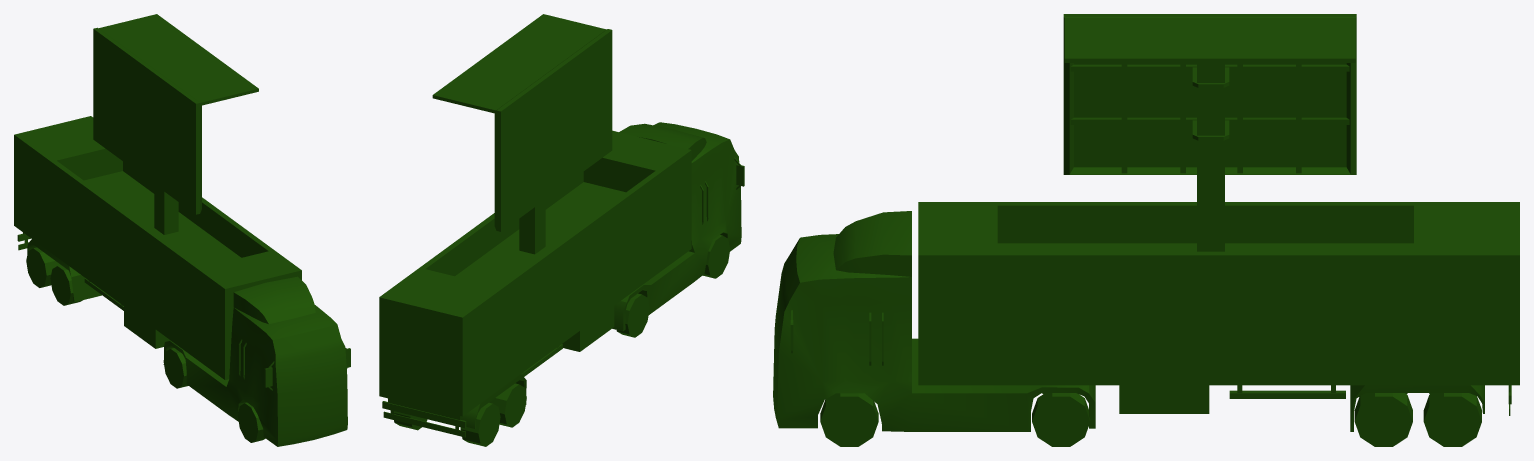
Rendered from Vehicle11.fbx.
3 views of the same model, side by side, from view 1: azimuth 30°, elevation 25°; view 2: azimuth 150°, elevation 25°; view 3: azimuth 270°, elevation 25° (orthographic). The views are drawn at different scales.
Visible parts, largest first — view 1: Vehicle11; view 2: Vehicle11; view 3: Vehicle11.
Part boxes in pixels (x1,y1,x2,y2): Vehicle11: (14, 14, 350, 446); Vehicle11: (379, 14, 744, 446); Vehicle11: (773, 14, 1519, 446).
Size of the model in its own units: 1.85 by 5.47 by 9.4.
